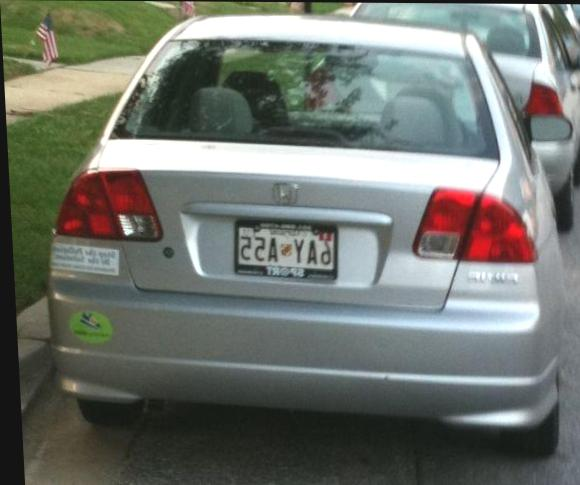License_Plate: (221, 219, 350, 283)
